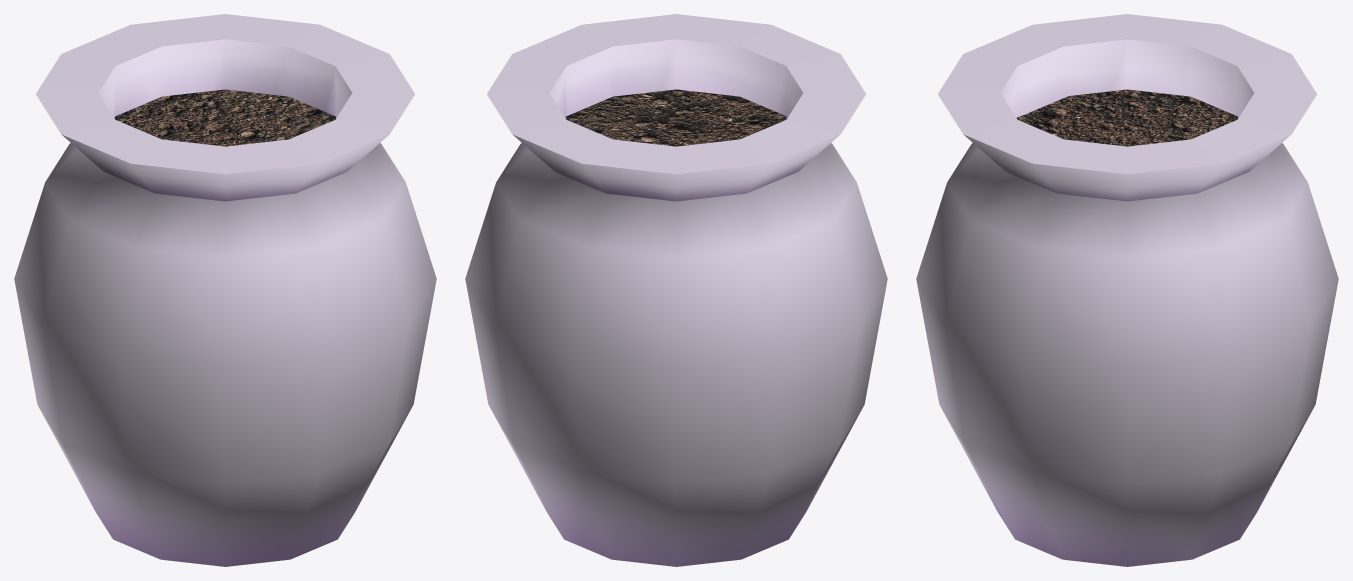
Rendered from Plant_Pot_1.fbx.
The picture shows the model from 3 angles, left to right: view 1: azimuth 30°, elevation 25°; view 2: azimuth 150°, elevation 25°; view 3: azimuth 270°, elevation 25°; orthographic projection.
Visible parts, largest first — view 1: Cylinder; view 2: Cylinder; view 3: Cylinder.
Part boxes in pixels (x1,y1,x2,y2): Cylinder: (14, 14, 436, 566); Cylinder: (465, 14, 887, 566); Cylinder: (916, 14, 1338, 566).
Size of the model in its own units: 326 by 357 by 326.
Materials: 1 (1 with a texture image).
